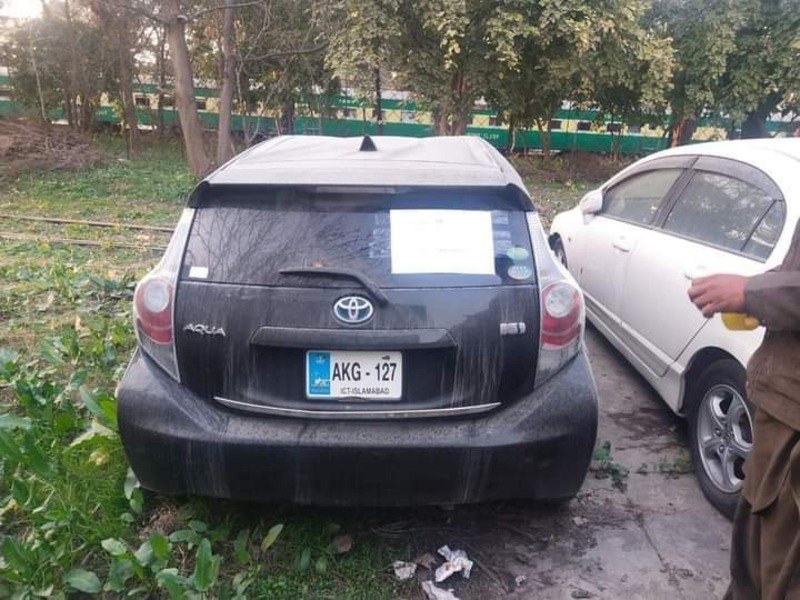License Plate: (302, 346, 404, 410)
